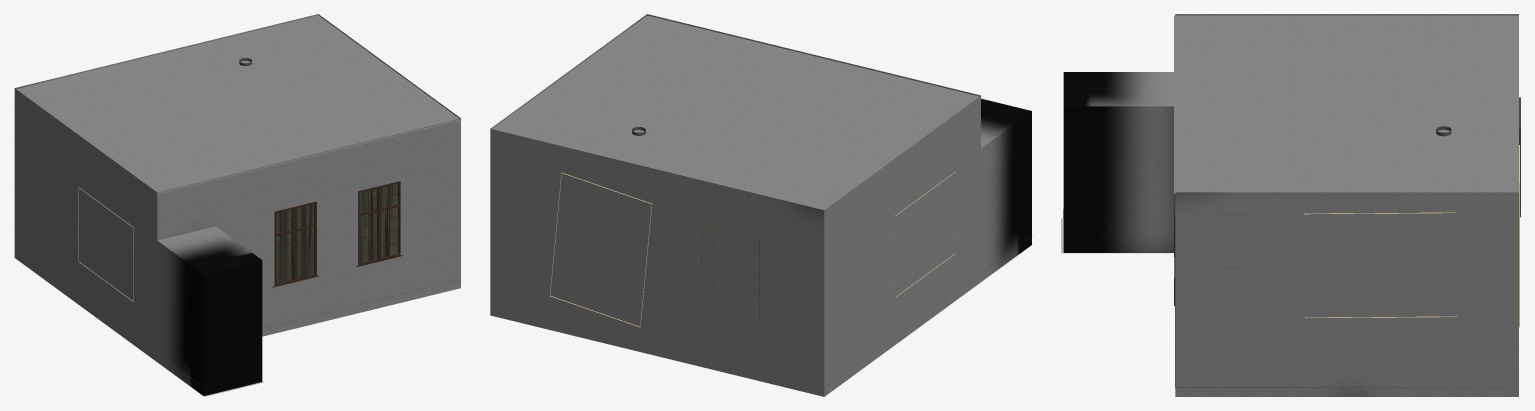
Rendered from Mixed-Room.fbx.
3 views of the same model, side by side, from view 1: azimuth 30°, elevation 25°; view 2: azimuth 150°, elevation 25°; view 3: azimuth 270°, elevation 25° (orthographic). The views are drawn at different scales.
Parts seen in each view (by area): view 1: Walls.001, Ceiling, Curtains-Mixed, Window-Frame; view 2: Walls.001, Ceiling, Paintings-Mixed; view 3: Walls.001, Ceiling, Paintings-Mixed.
Part boxes in pixels (x1,y1,x2,y2): Walls.001: (14, 14, 460, 395); Ceiling: (16, 15, 461, 193); Curtains-Mixed: (276, 183, 397, 283); Window-Frame: (273, 181, 402, 287); Walls.001: (490, 14, 1032, 396); Ceiling: (492, 15, 981, 209); Paintings-Mixed: (550, 172, 955, 326); Walls.001: (1063, 14, 1518, 396); Ceiling: (1174, 15, 1518, 193); Paintings-Mixed: (1215, 97, 1520, 327).
Size of the model in its own units: 1235 by 664 by 1339.
